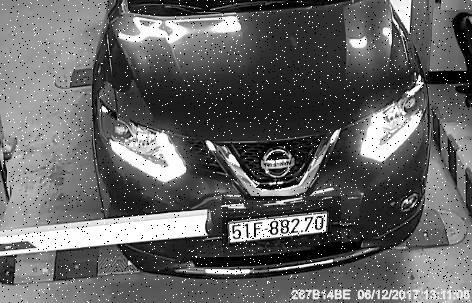License-plate: (224, 198, 344, 250)
